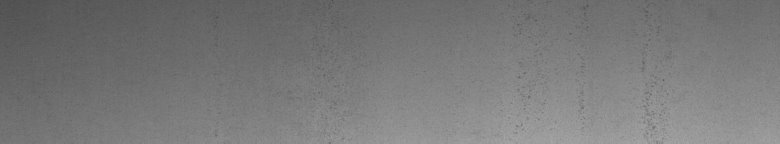ib: (516, 5, 665, 130)
